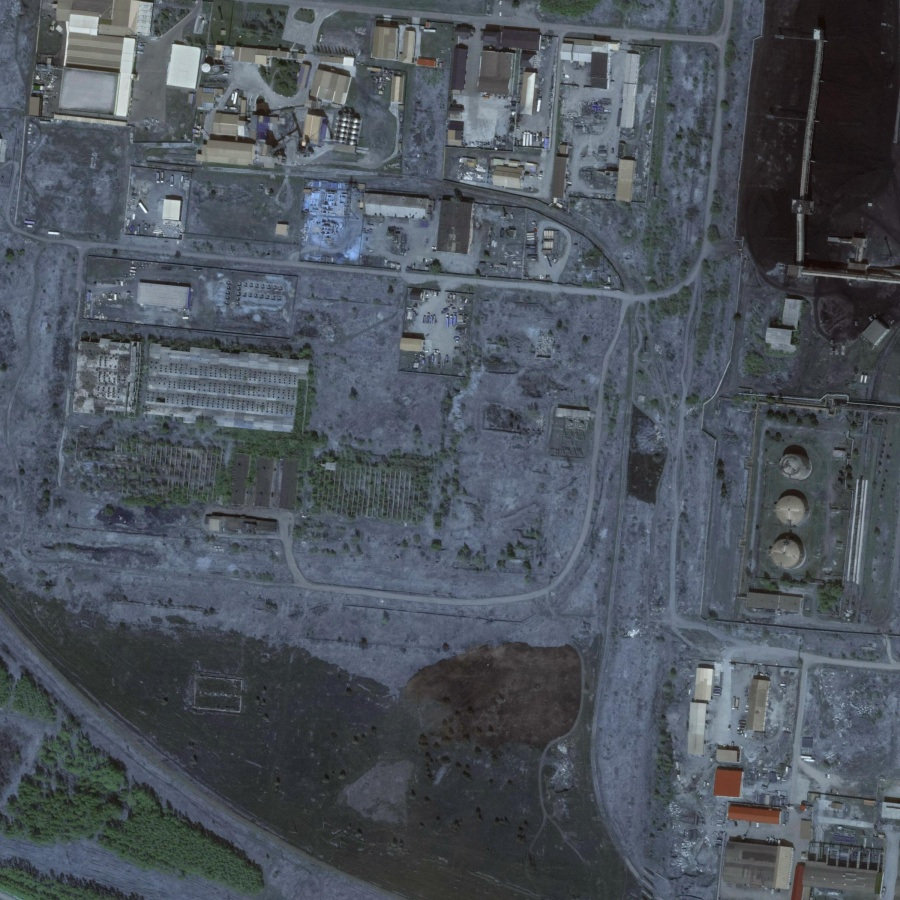PowerPlant: (730, 387, 878, 629)
